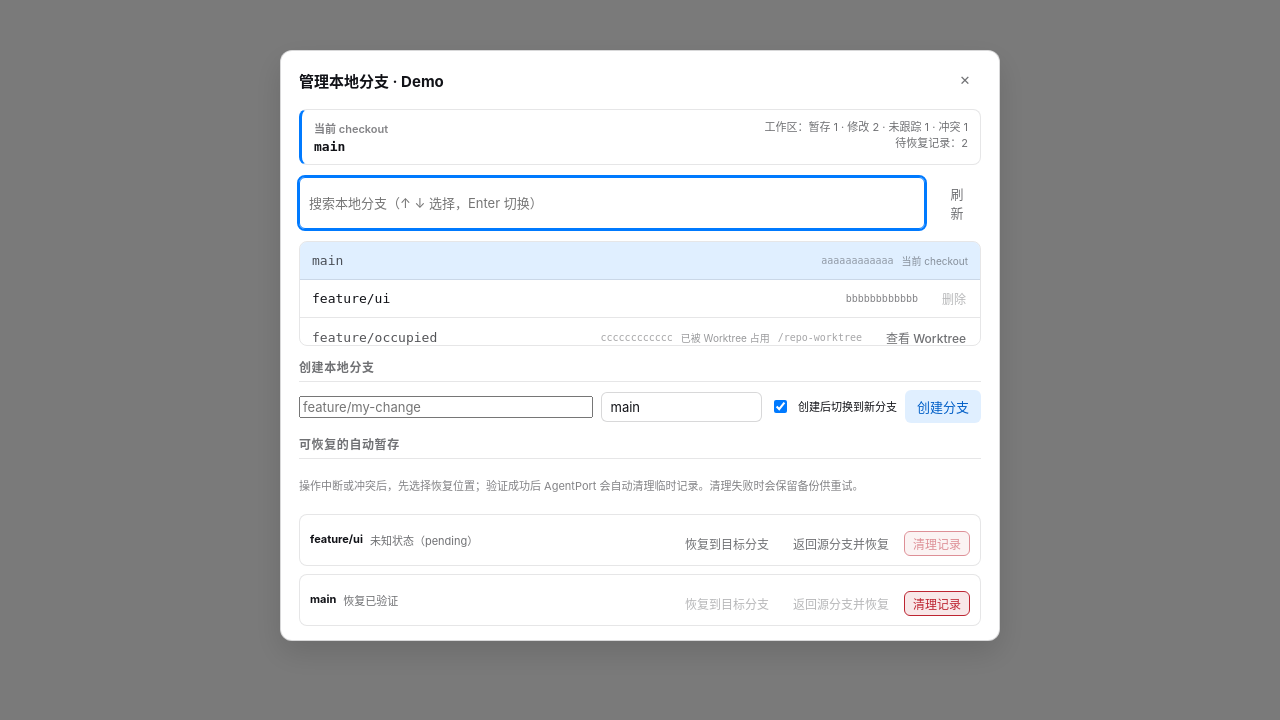
it: local branch management › shows the actual createAndSwitch error with live Sessions (wrapped=false)
Expected: the button "feature/ui" is shown, [305, 286, 925, 311]
Type "feature/retry" into the field named "新分支名称". click: (446, 407)
box: [299, 396, 592, 418]
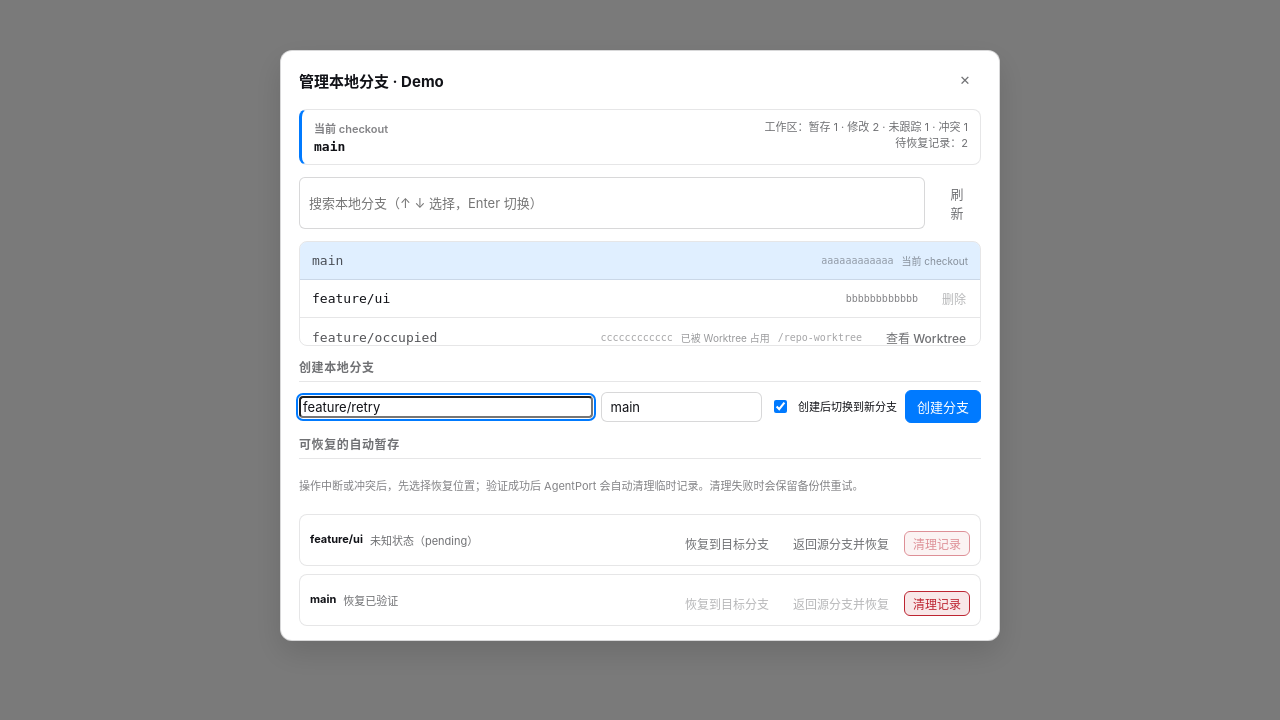
Click the button "创建分支". click: (943, 407)
box: [905, 390, 981, 423]
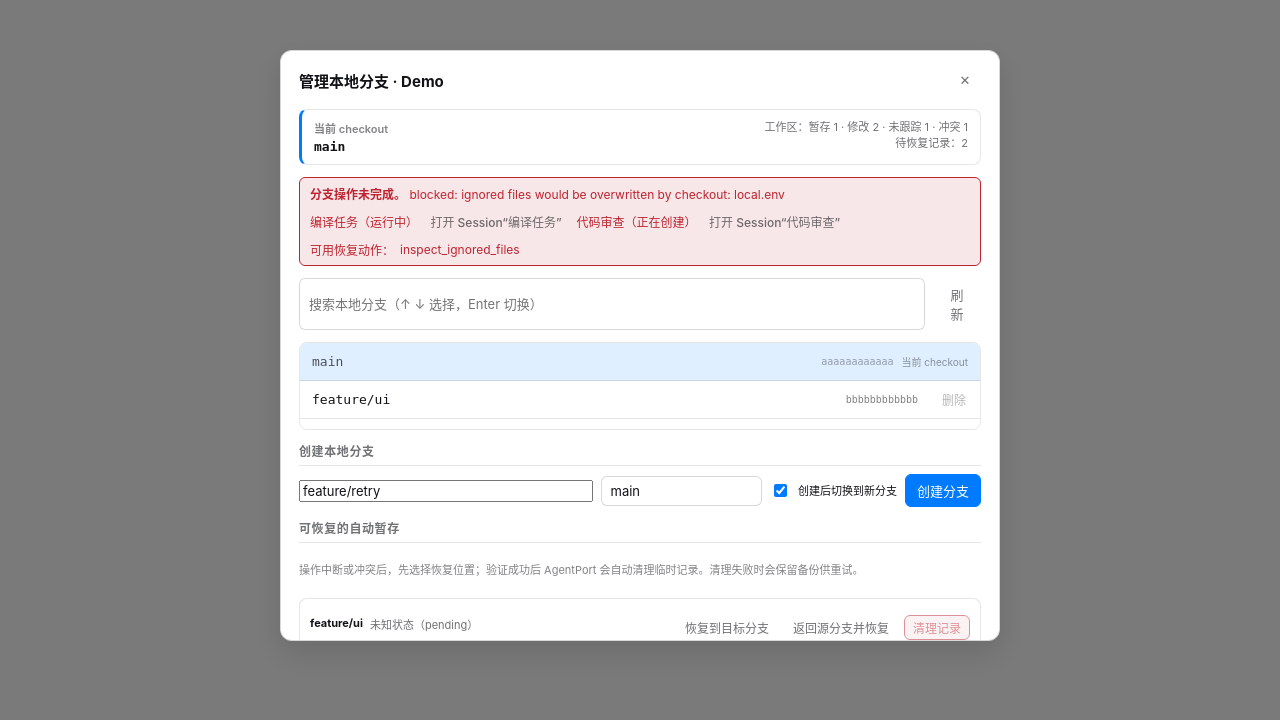
Expected: the text "ignored files would be overwritten" is shown, [409, 187, 785, 202]
Expected: the text "inspect_ignored_files" is shown, [400, 242, 520, 257]
Expected: the button "打开 Session“编译任务”" is shown, [421, 209, 571, 234]
Click the button "创建分支". click: (943, 491)
box: [905, 474, 981, 507]
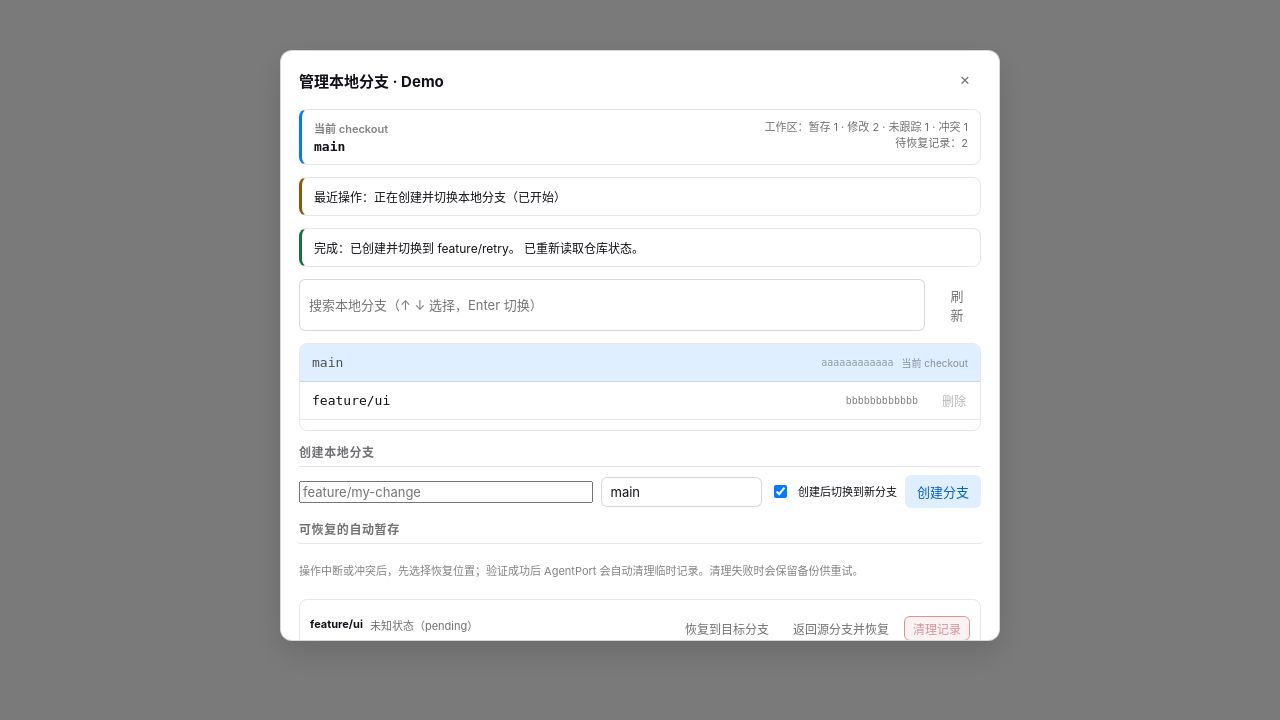
Expected: the text "ignored files would be overwritten" is gone
